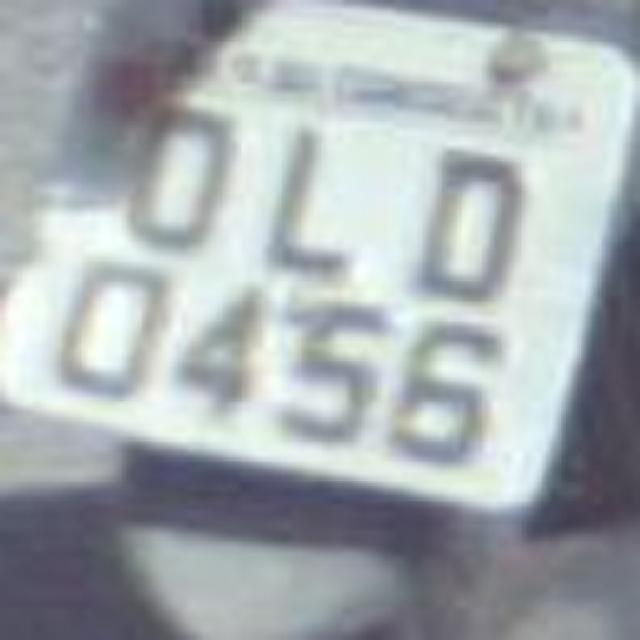0: (36, 244, 189, 416)
4: (156, 260, 292, 435)
5: (252, 280, 408, 455)
6: (364, 284, 524, 491)
J: (235, 116, 380, 284)
O: (400, 132, 528, 308), (108, 100, 240, 265)
